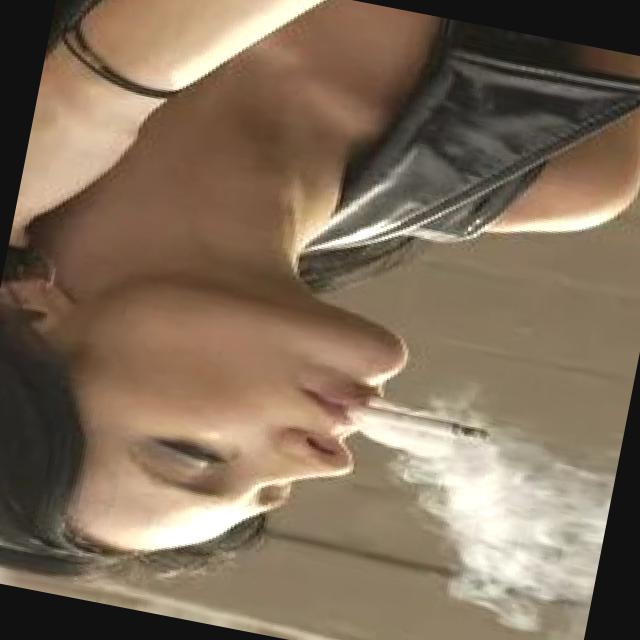smoke: (330, 394, 502, 450)
